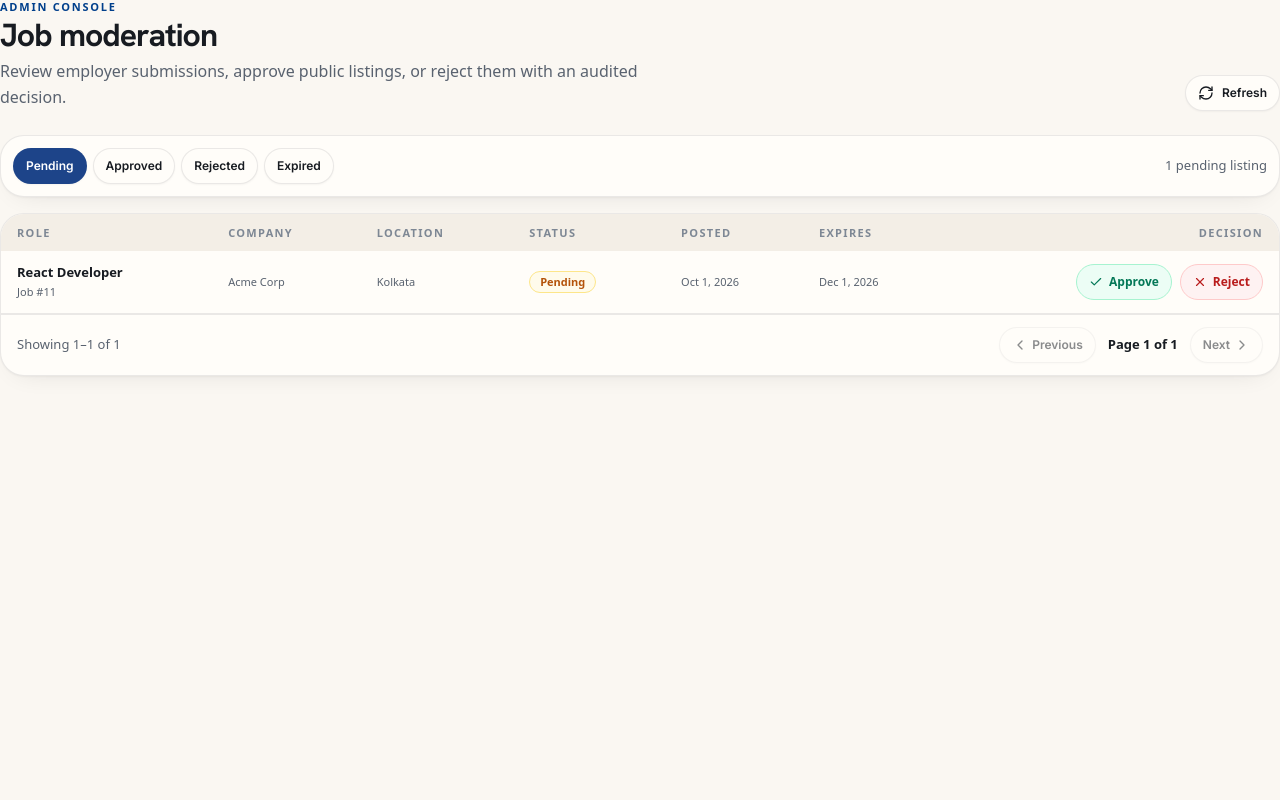
AdminJobsPage › restores the optimistically removed row and toasts when a transition is invalid
Check: the text "React Developer" is shown, box [17,263,123,281]
Click the button with aria-label "approve react developer".
click(1124, 282)  # box [1076,264,1172,300]
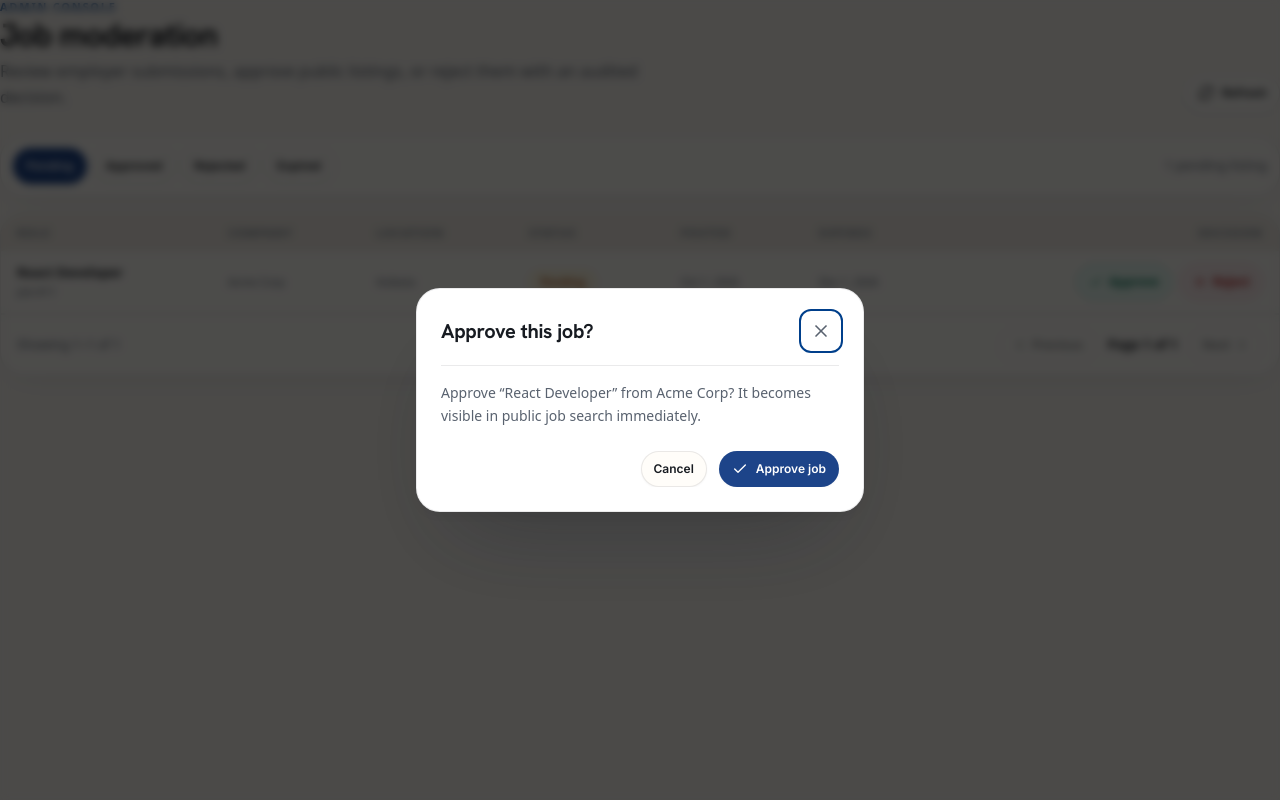
Click the button "Approve job".
click(779, 469)  # box [719,451,839,487]
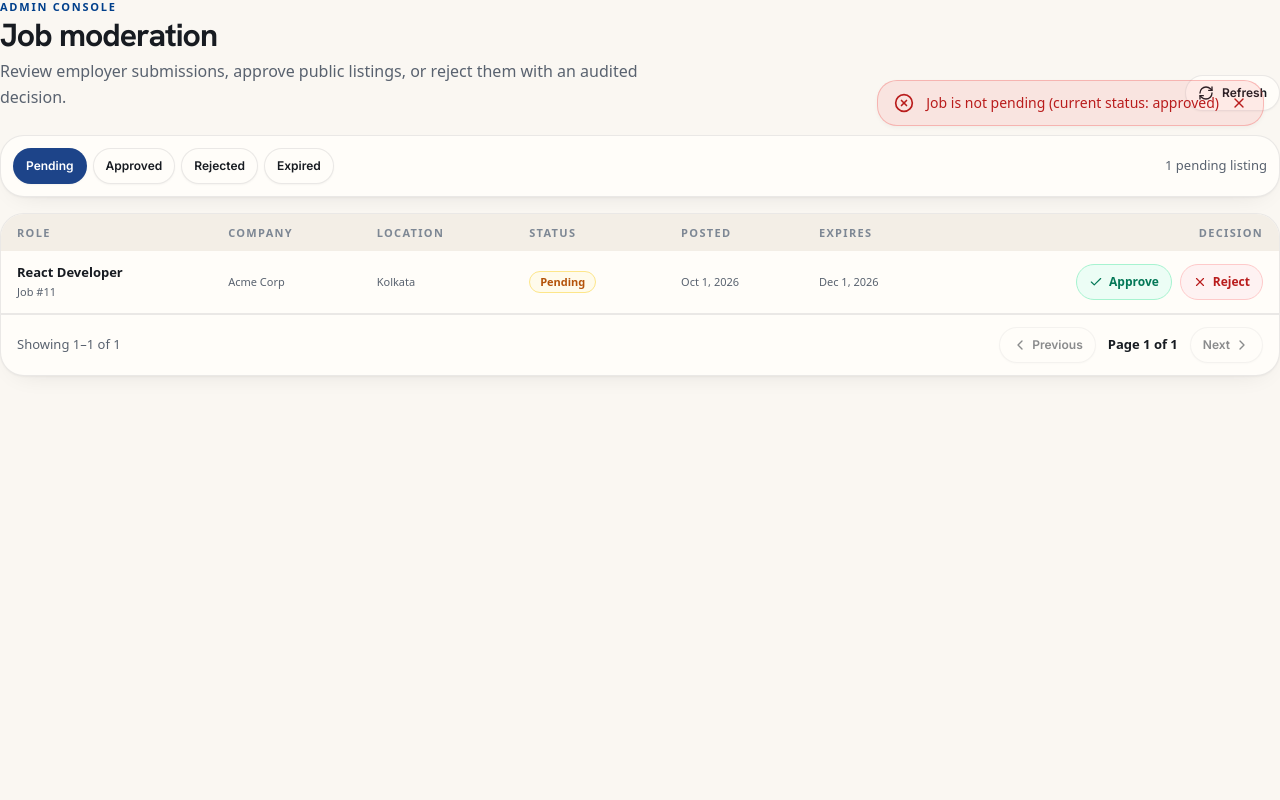
Check: the text "React Developer" is shown, box [17,263,123,281]
Check: the text "Job is not pending (current status: approved)" is shown, box [926,93,1219,113]
